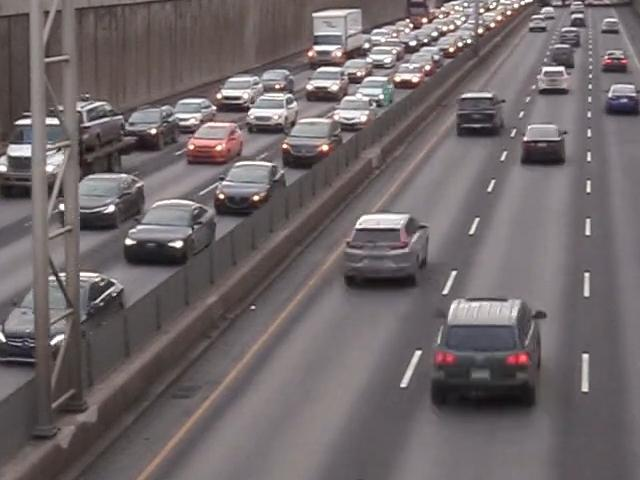bus: (408, 0, 441, 23)
car: (430, 293, 550, 413), (0, 279, 121, 367), (338, 213, 428, 287), (121, 201, 215, 271), (62, 172, 141, 232), (217, 162, 281, 213), (281, 117, 340, 165), (518, 118, 563, 172), (128, 104, 179, 150), (186, 121, 239, 165), (330, 99, 383, 137), (251, 94, 297, 134), (171, 96, 215, 129), (354, 80, 398, 111), (222, 77, 260, 107), (604, 82, 640, 113), (308, 69, 339, 100), (540, 69, 572, 95), (394, 62, 422, 90), (598, 51, 632, 72), (366, 45, 392, 68), (261, 70, 289, 91), (345, 59, 368, 82), (413, 52, 433, 72), (401, 32, 422, 48), (371, 27, 389, 45)
truck: (0, 103, 130, 193), (308, 7, 368, 60)
van: (452, 90, 512, 142)
